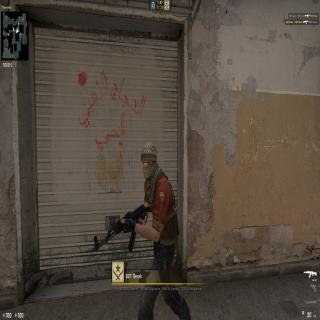T-Head: (140, 138, 158, 182)
